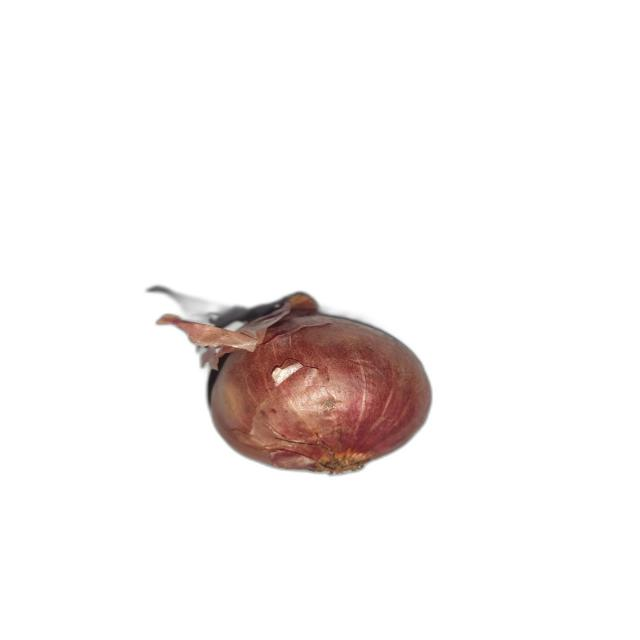onion: (156, 292, 431, 474)
